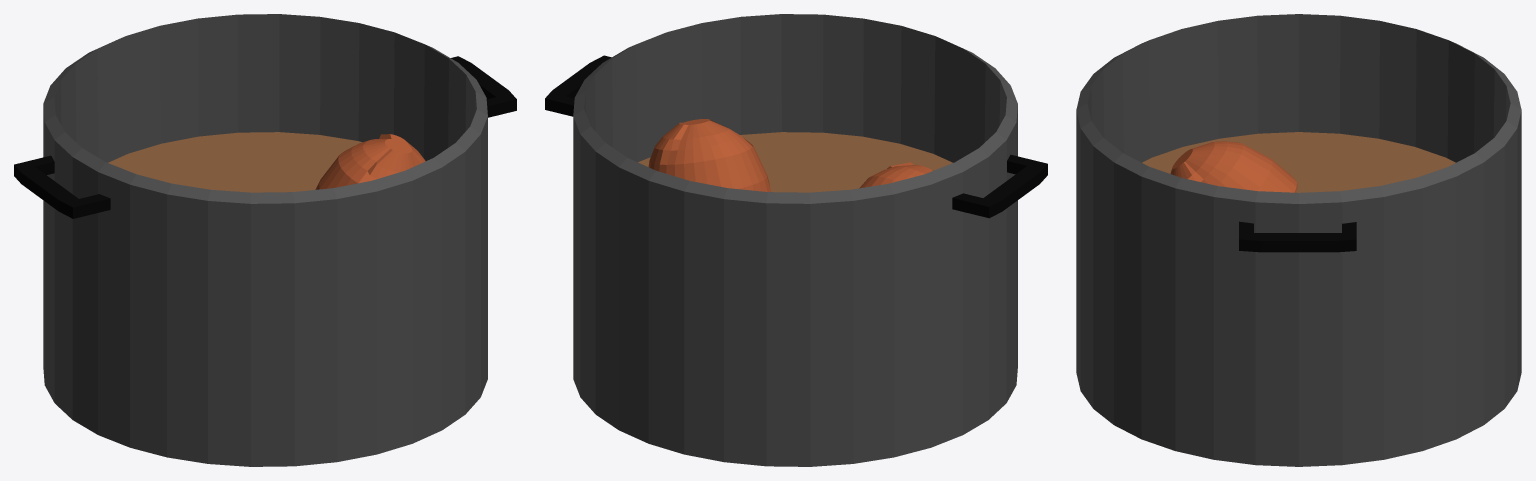
File: Adobo 2nd Stage.fbx
3 views of the same model, side by side, from view 1: azimuth 30°, elevation 25°; view 2: azimuth 150°, elevation 25°; view 3: azimuth 270°, elevation 25° (orthographic).
Visible parts, largest first — view 1: Cylinder, Liquid, Cylinder.001; view 2: Cylinder, Liquid, Cylinder.001, Cylinder.002; view 3: Cylinder, Liquid, Cylinder.002.
Boxes of the visible parts, x1,y1,x2,y2 form: Cylinder: (14, 14, 516, 466); Liquid: (108, 132, 362, 192); Cylinder.001: (315, 134, 425, 189); Cylinder: (545, 14, 1047, 466); Liquid: (638, 132, 952, 192); Cylinder.001: (648, 119, 770, 191); Cylinder.002: (859, 162, 933, 188); Cylinder: (1076, 14, 1521, 466); Liquid: (1142, 132, 1455, 192); Cylinder.002: (1170, 141, 1297, 192).
Bounding box in the file's own units: 79.81 × 47.71 × 68.44.
